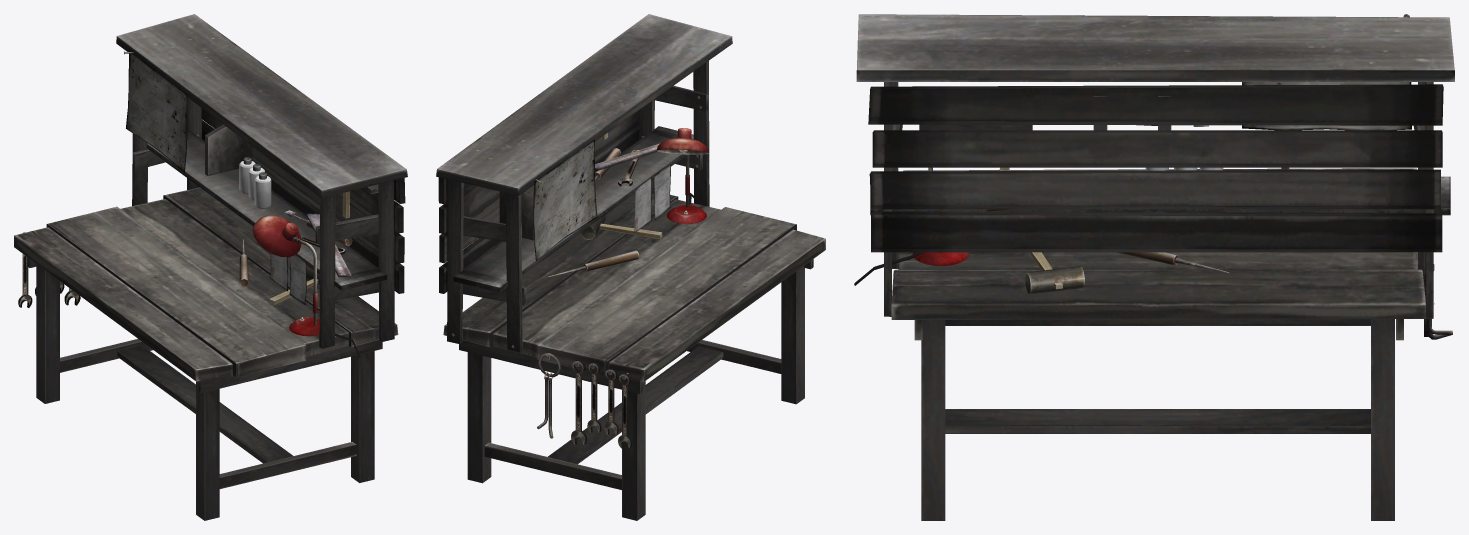
File: escritoriosup.obj
3 views of the same model, side by side, from view 1: azimuth 30°, elevation 25°; view 2: azimuth 150°, elevation 25°; view 3: azimuth 270°, elevation 25° (orthographic). The views are drawn at different scales.
Visible parts, largest first — view 1: EscritorioCasa; view 2: EscritorioCasa; view 3: EscritorioCasa.
Part boxes in pixels (box(x1,y1,x2,y2)): EscritorioCasa: box(14, 14, 407, 520); EscritorioCasa: box(436, 14, 825, 520); EscritorioCasa: box(854, 14, 1454, 520).
Bounding box in the file's own units: 4.86 × 7.62 × 9.08.
Materials: 7 (7 with a texture image).
